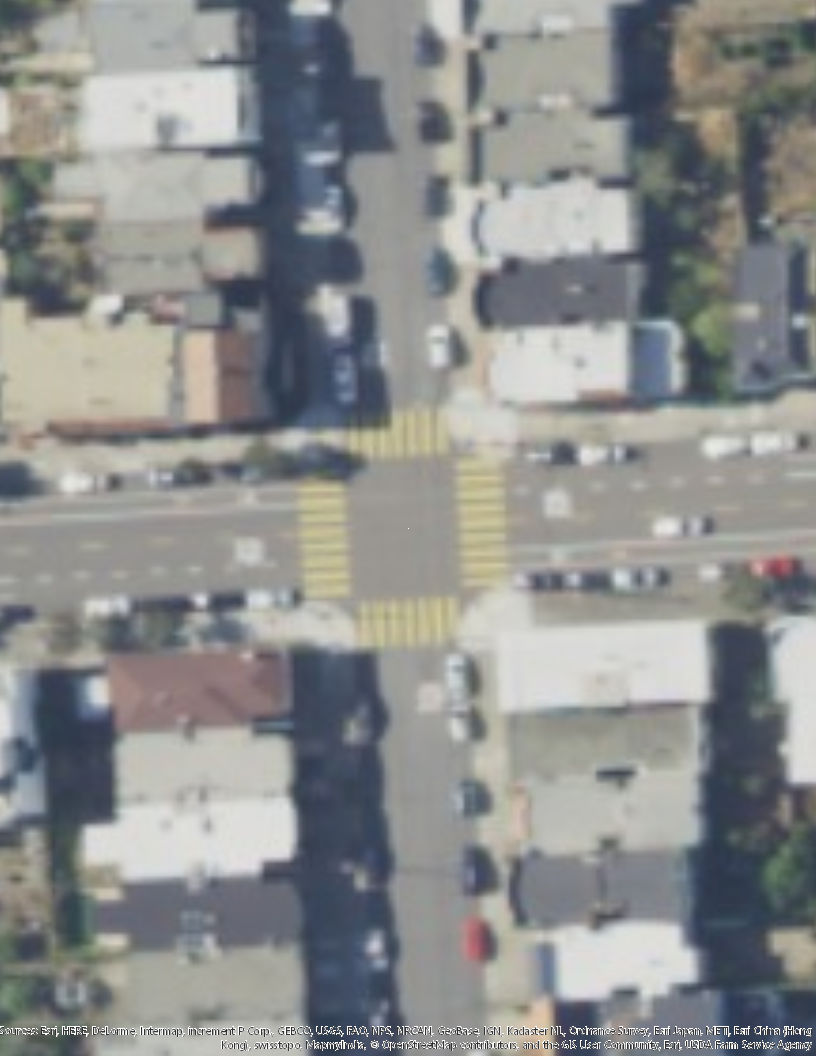zebracross: (293, 469, 356, 598), (454, 458, 508, 587), (348, 407, 451, 460), (356, 598, 466, 645)
